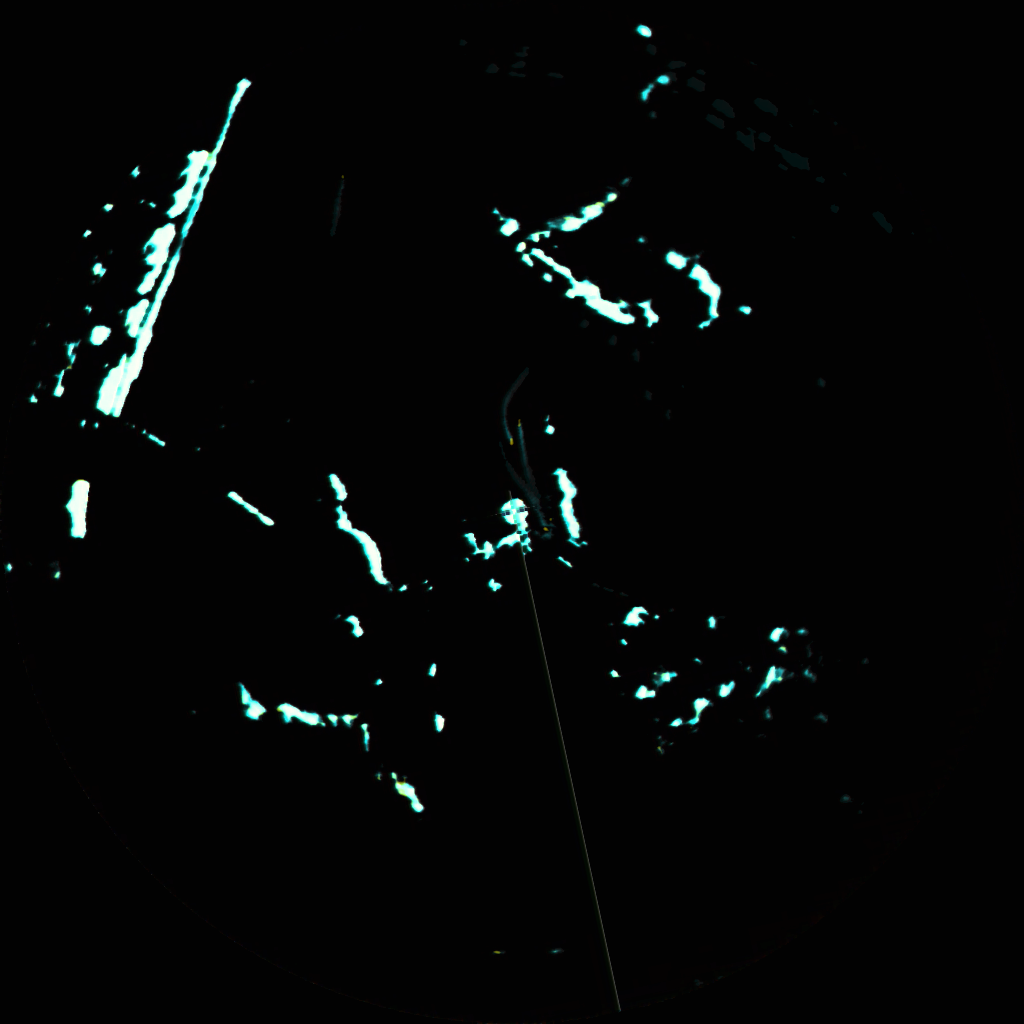B: (527, 491, 549, 532), (500, 390, 514, 445), (516, 417, 527, 465), (335, 173, 345, 211), (548, 516, 552, 527)
